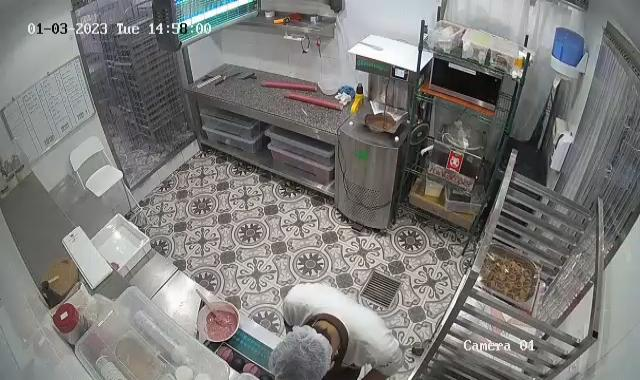hairnet: (265, 325, 331, 378)
